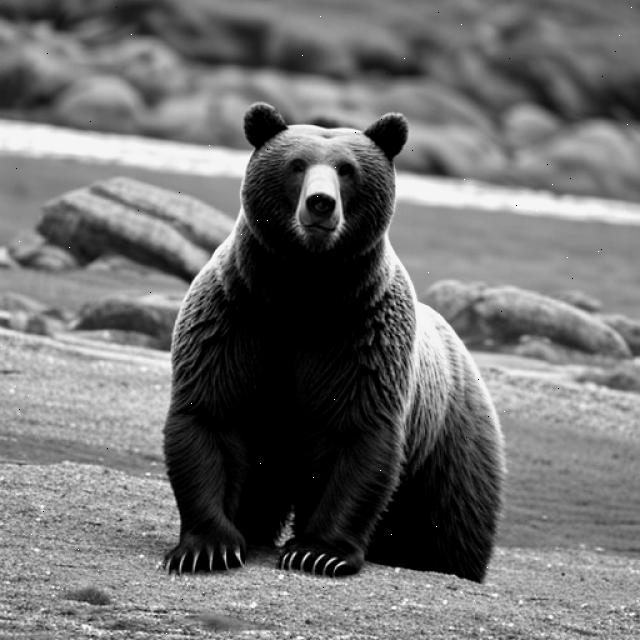bear: (186, 105, 426, 330)
